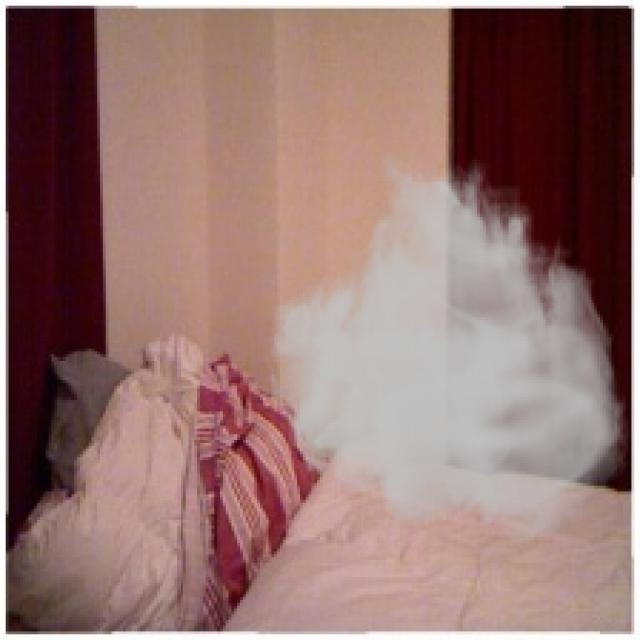smoke: (266, 148, 631, 546)
